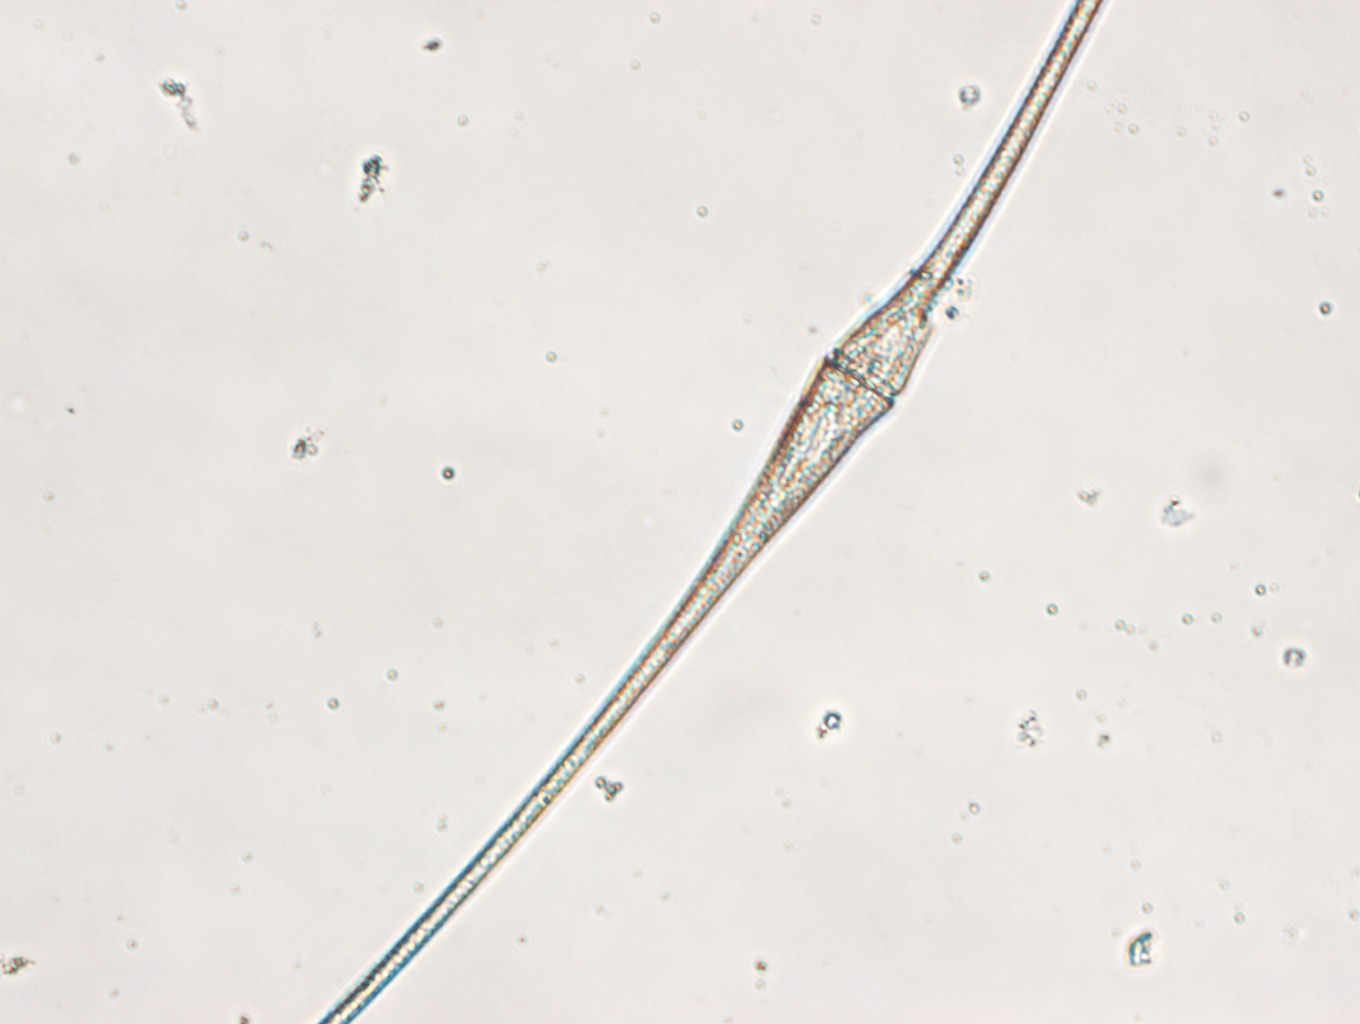ceratium fusus: (323, 1, 1106, 1024)
